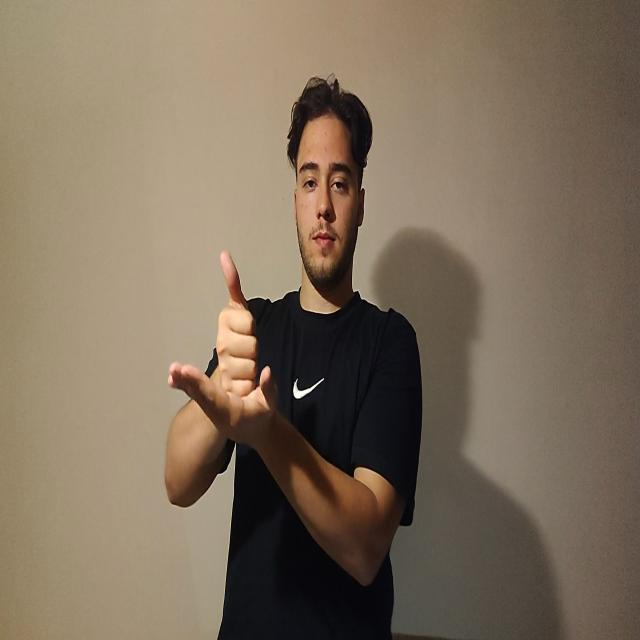help: (169, 252, 278, 442)
